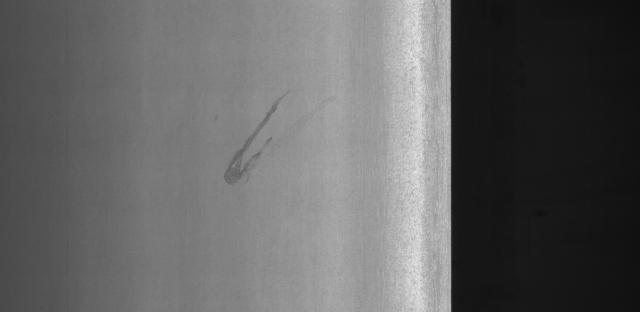water_spot: (204, 86, 310, 196)
